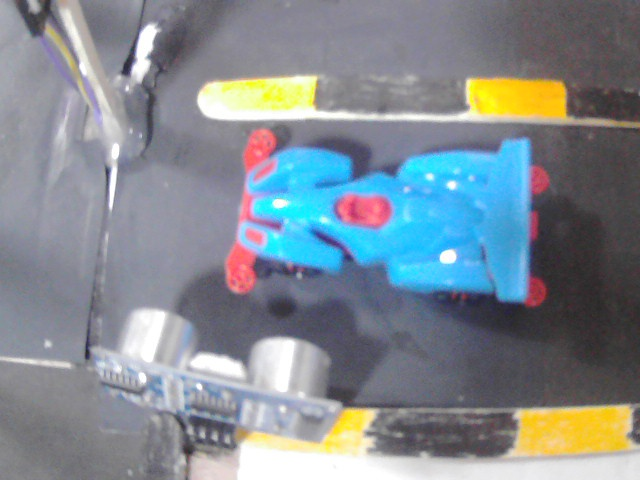car: (220, 132, 551, 331)
uno_breadboard: (106, 303, 349, 461)
